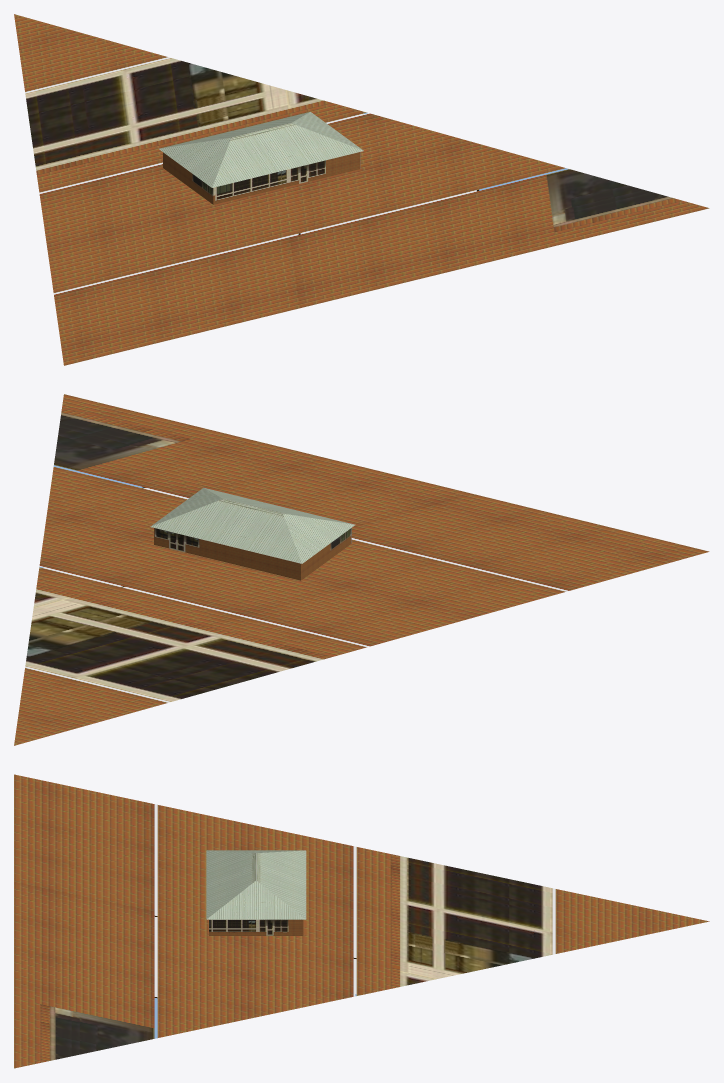
File: terminal-small-04-21x13-cbj_LOD02.gltf
The picture shows the model from 3 angles, top to bottom: view 1: azimuth 30°, elevation 25°; view 2: azimuth 150°, elevation 25°; view 3: azimuth 270°, elevation 25°; orthographic projection. The views are drawn at different scales.
Visible parts, largest first — view 1: Sketchup02; view 2: Sketchup02; view 3: Sketchup02.
Boxes of the visible parts, <box> form: Sketchup02: <box>14,14,709,365</box>; Sketchup02: <box>14,394,709,745</box>; Sketchup02: <box>14,774,709,1068</box>.
Bounding box in the file's own units: 90.01 × 8.08 × 90.01.
